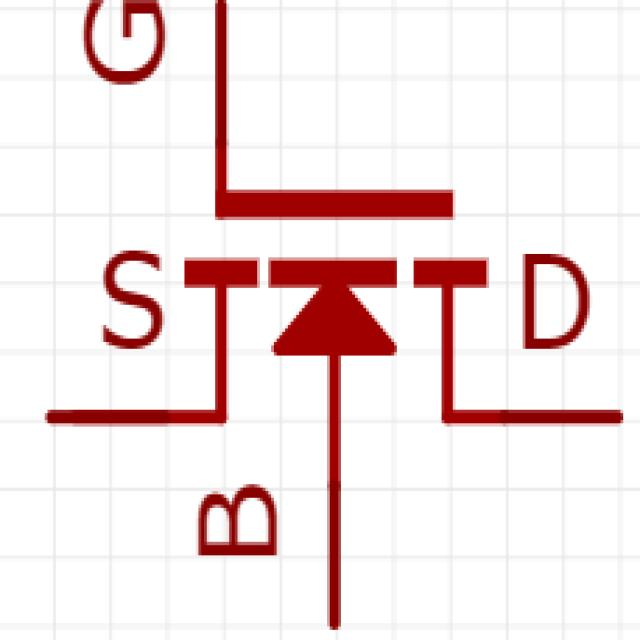nmos: (53, 1, 632, 610)
